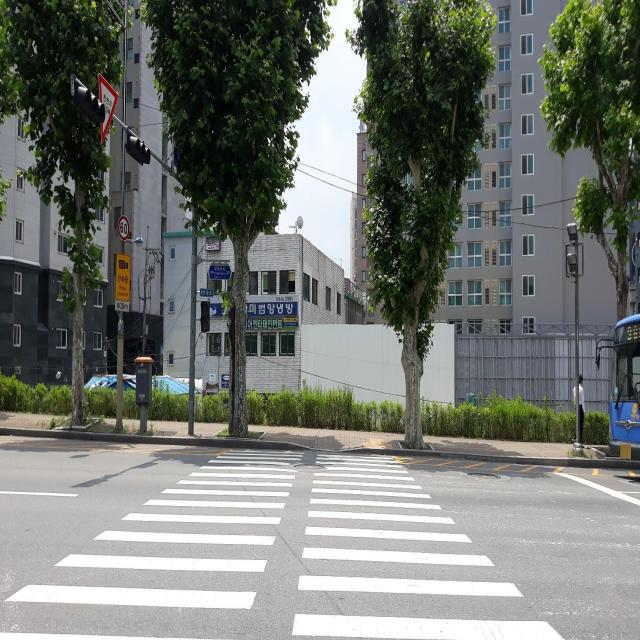횡단보도: (0, 445, 569, 640)
